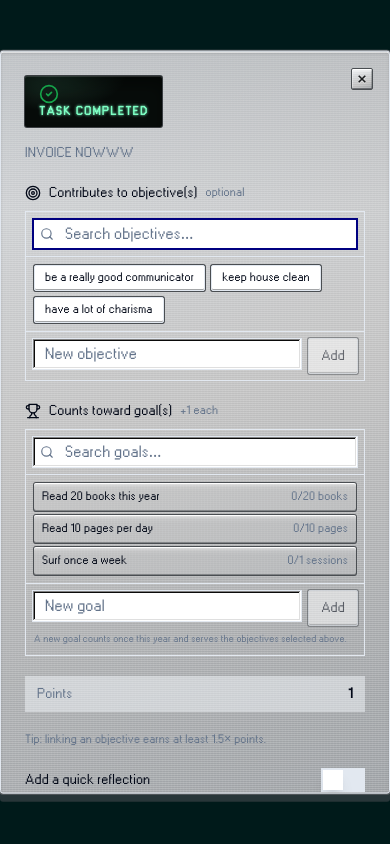
Scenario: CompletionDialog › keeps a selected objective visible after searching for something else
Click the button "keep house clean" at (266, 278), box left=211, top=265, right=321, bottom=291
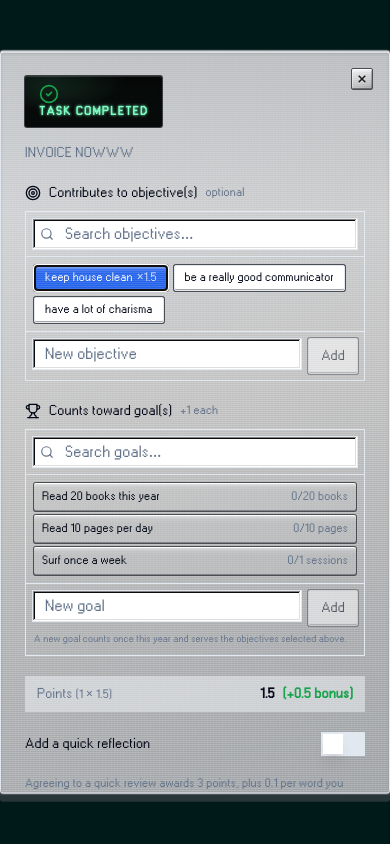
Type "charisma" into the search field labelled "Search objectives" at (195, 234), box left=32, top=218, right=358, bottom=250
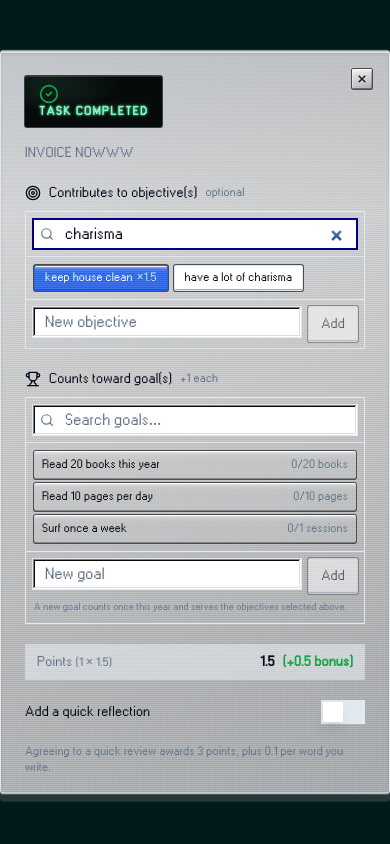
Expected: the button "keep house clean×1.5" is shown, left=34, top=265, right=168, bottom=291
Result: the button "be a really good communicator" is gone
